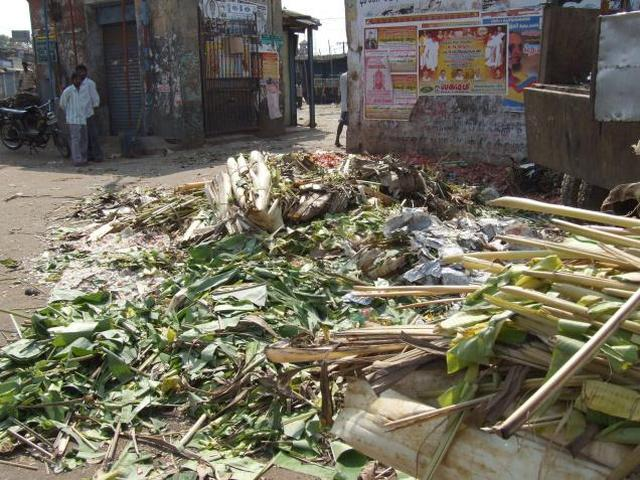garbage: (131, 194, 395, 390)
